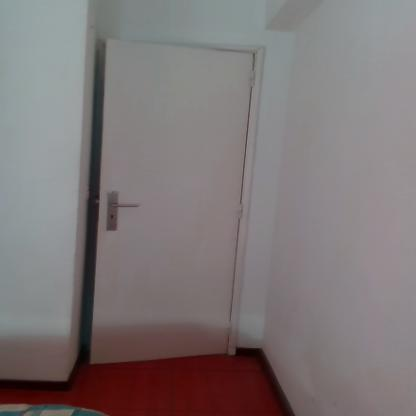door: (102, 37, 243, 365)
hinged: (226, 318, 234, 335), (249, 69, 256, 87), (238, 201, 244, 219)
lever: (110, 201, 143, 209)
